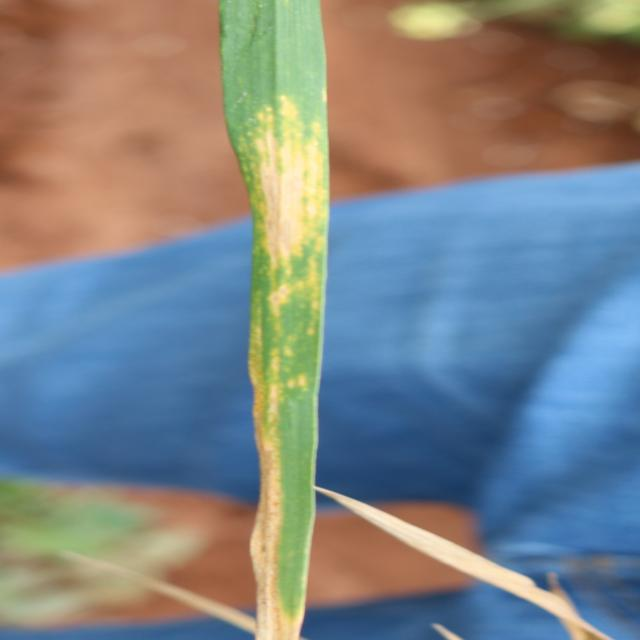Septoria: (217, 1, 331, 638)
